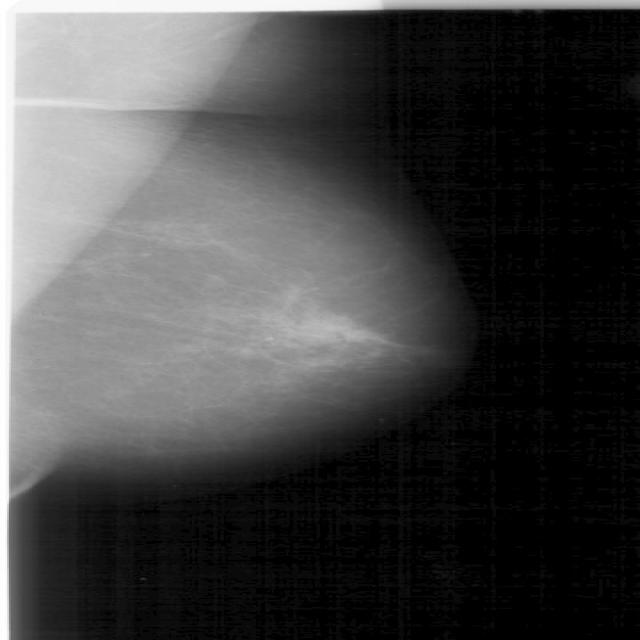tumour: (292, 308, 382, 344)
